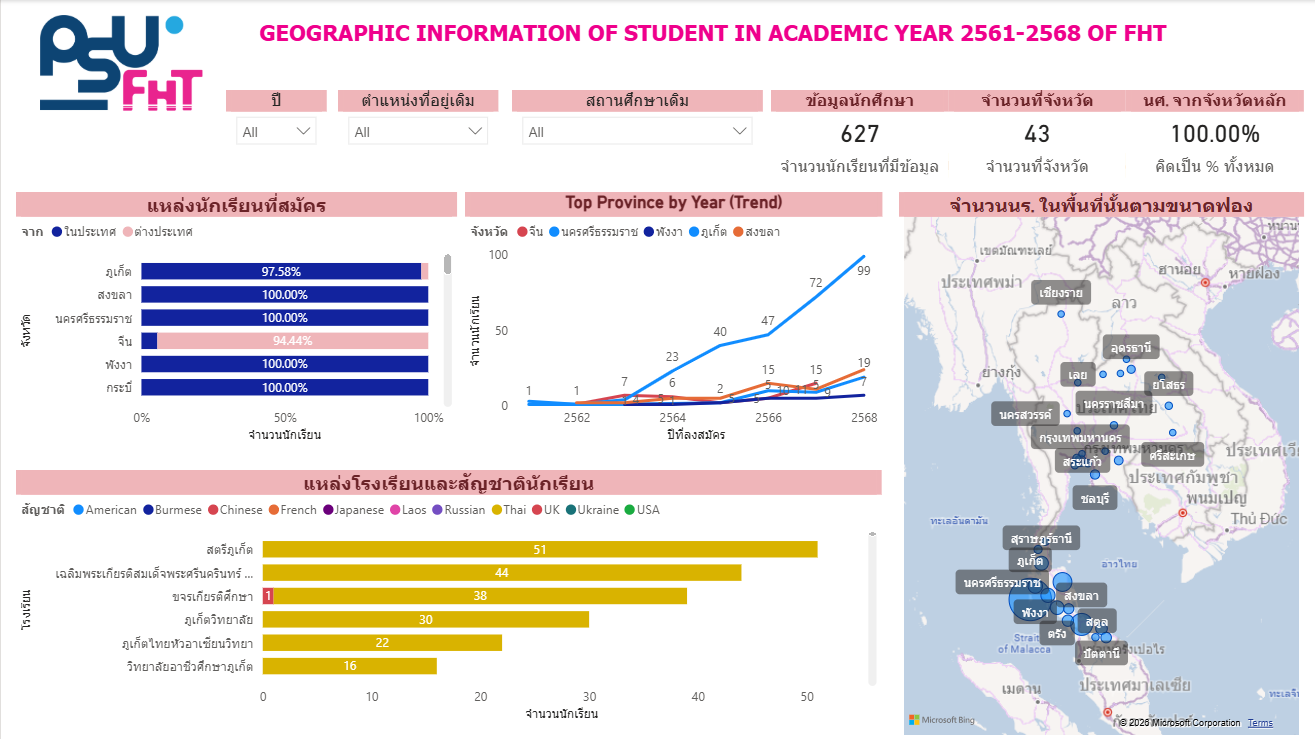

What the dashboard file says about the page in this screenshot:
{"tool":"powerbi","page":{"name":"Geographic","canvas":[1280,720],"ordinal":3},"visuals":[{"type":"textbox","box":[246.1,29.2,905.5,42.8],"z":0},{"type":"barChart","title":"แหล่งโรงเรียนและสัญชาตินักเรียน","fields":{"Category":["Status.school"],"Series":["Status.nationality"],"Y":["Dax 3หน้าสาม.Student Count"]},"box":[15,457,842,248],"z":1000},{"type":"hundredPercentStackedBarChart","title":"แหล่งนักเรียนที่สมัครมาจากไหน","fields":{"Category":["Status.Province"],"Series":["tCountry.from"],"Y":["Dax 3หน้าสาม.Student Count"]},"box":[15,187,429,247],"z":2000},{"type":"lineChart","title":"แนวโน้มนักเรียนจากจังหวัดนั้น","fields":{"Category":["Status.admit at year"],"Y":["Dax 3.Student Count"],"Series":["Status.Province"]},"box":[451.3,186.7,405.6,247.1],"z":3000},{"type":"map","title":"จำนวนนร. ในพื้นที่นั้นตามขนาดฟอง","fields":{"Category":["tSchool.province"],"Size":["Dax 2.CountAll"]},"box":[873.4,148.8,393.9,570.9],"z":4000},{"type":"card","title":"ข้อมูลนักศึกษา","fields":{"Values":["Dax 3หน้าสาม.Student Count"]},"box":[748.7,88,173.4,87.1],"z":5000},{"type":"card","title":"จำนวนจังหวัด","fields":{"Values":["Count(Status.Province)"]},"box":[922,88,172,87],"z":6000},{"type":"card","title":"นศ. จากจังหวัดหลัก","fields":{"Values":["Dax 3หน้าสาม.Student % by Province"]},"box":[1094,88,173,87],"z":7000},{"type":"slicer","title":"ปี","fields":{"Values":["Status.admit at year"]},"box":[219,88,98,73],"z":8000},{"type":"slicer","title":"ตำแหน่งที่อยู่เดิม","fields":{"Values":["Status.Province"]},"box":[328,88,156,70],"z":9000},{"type":"slicer","title":"สถานศึกษาเดิม","fields":{"Values":["Status.school"]},"box":[497,88,244,73],"z":10000},{"type":"image","box":[29.8,39.4,158,95],"z":11000}]}

Visuals, with their boxes in screenshot pixels (x1, y1, x2, y2), scaled from the page's 1280x720 canvas onto the 1315x739 screenshot:
textbox: 253:30:1183:74
"แหล่งโรงเรียนและสัญชาตินักเรียน" barChart: 15:469:880:724
"แหล่งนักเรียนที่สมัครมาจากไหน" hundredPercentStackedBarChart: 15:192:456:445
"แนวโน้มนักเรียนจากจังหวัดนั้น" lineChart: 464:192:880:445
"จำนวนนร. ในพื้นที่นั้นตามขนาดฟอง" map: 897:153:1302:738
"ข้อมูลนักศึกษา" card: 769:90:947:180
"จำนวนจังหวัด" card: 947:90:1124:180
"นศ. จากจังหวัดหลัก" card: 1124:90:1302:180
"ปี" slicer: 225:90:326:165
"ตำแหน่งที่อยู่เดิม" slicer: 337:90:497:162
"สถานศึกษาเดิม" slicer: 511:90:761:165
image: 31:40:193:138
